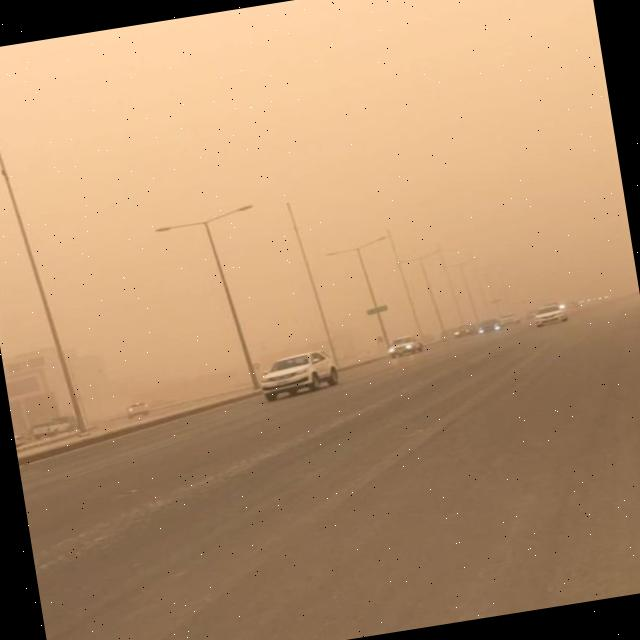car: (256, 346, 340, 402), (29, 417, 76, 441), (386, 335, 426, 360), (532, 304, 568, 328), (126, 400, 150, 419), (453, 322, 478, 338), (479, 317, 503, 333), (499, 312, 521, 326)
